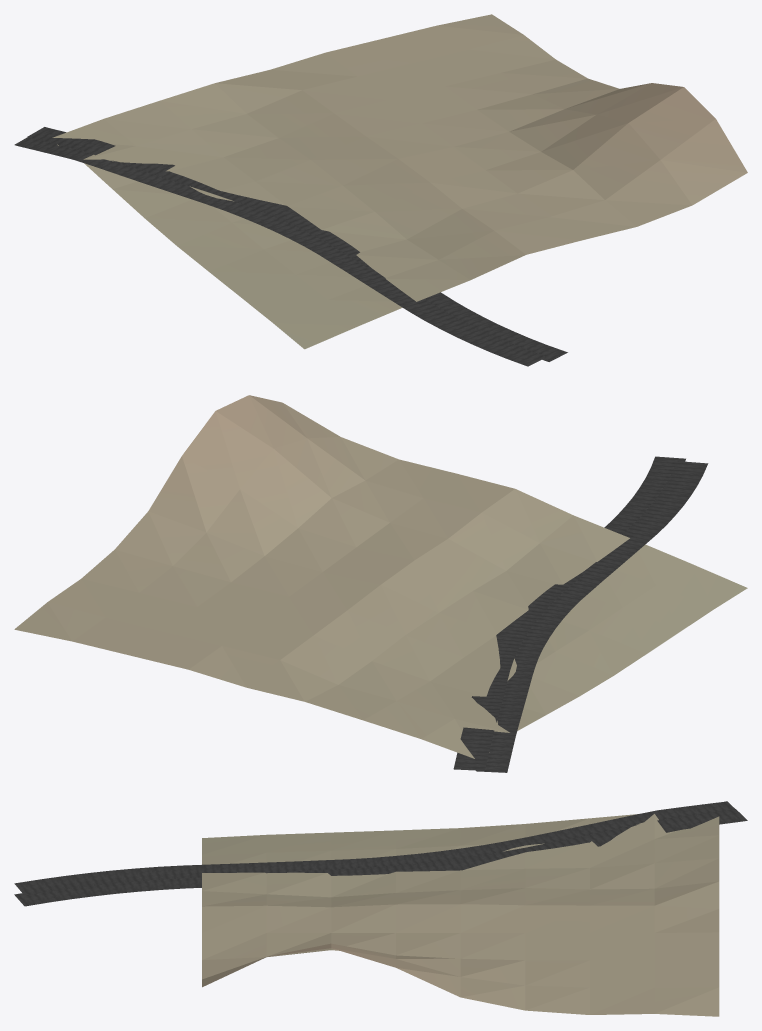
Rendered from tile_12_-27_lod1.gltf.
The picture shows the model from 3 angles, top to bottom: view 1: azimuth 30°, elevation 25°; view 2: azimuth 150°, elevation 25°; view 3: azimuth 270°, elevation 25°; orthographic projection. The views are drawn at different scales.
Visible parts, largest first — view 1: Terrain_col, Roads; view 2: Terrain_col, Roads; view 3: Terrain_col, Roads.
Boxes of the visible parts, x1,y1,x2,y2 form: Terrain_col: [52, 14, 747, 349]; Roads: [14, 127, 567, 366]; Terrain_col: [14, 395, 747, 758]; Roads: [453, 456, 708, 772]; Terrain_col: [202, 814, 719, 1016]; Roads: [14, 801, 747, 906].
Bounding box in the file's own units: 274 × 59.3 × 363.
2 materials, 1 textured.
